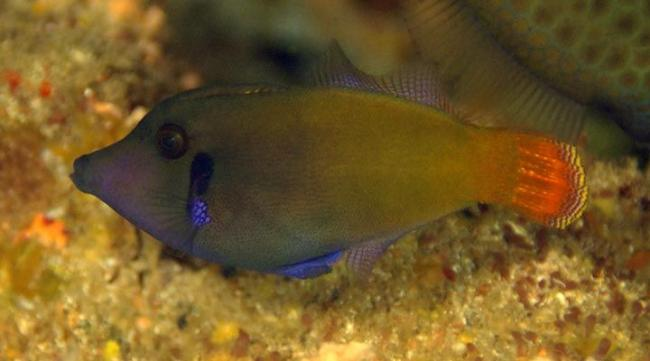fish: (70, 39, 588, 280)
